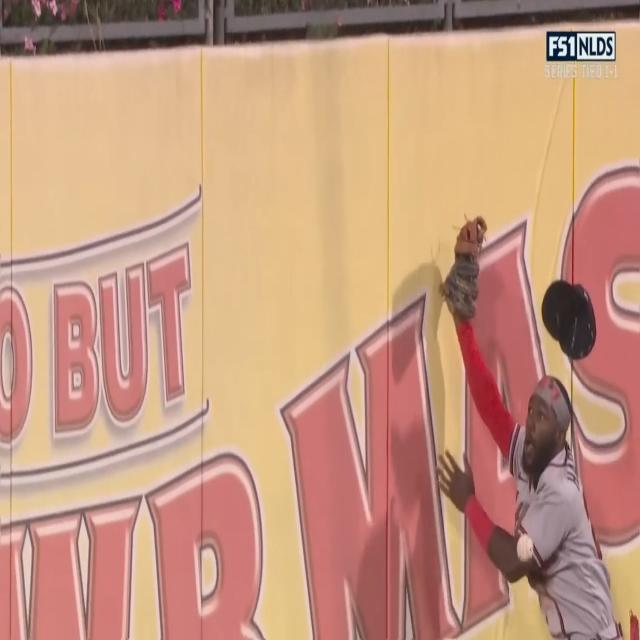baseball: (515, 533, 534, 564)
